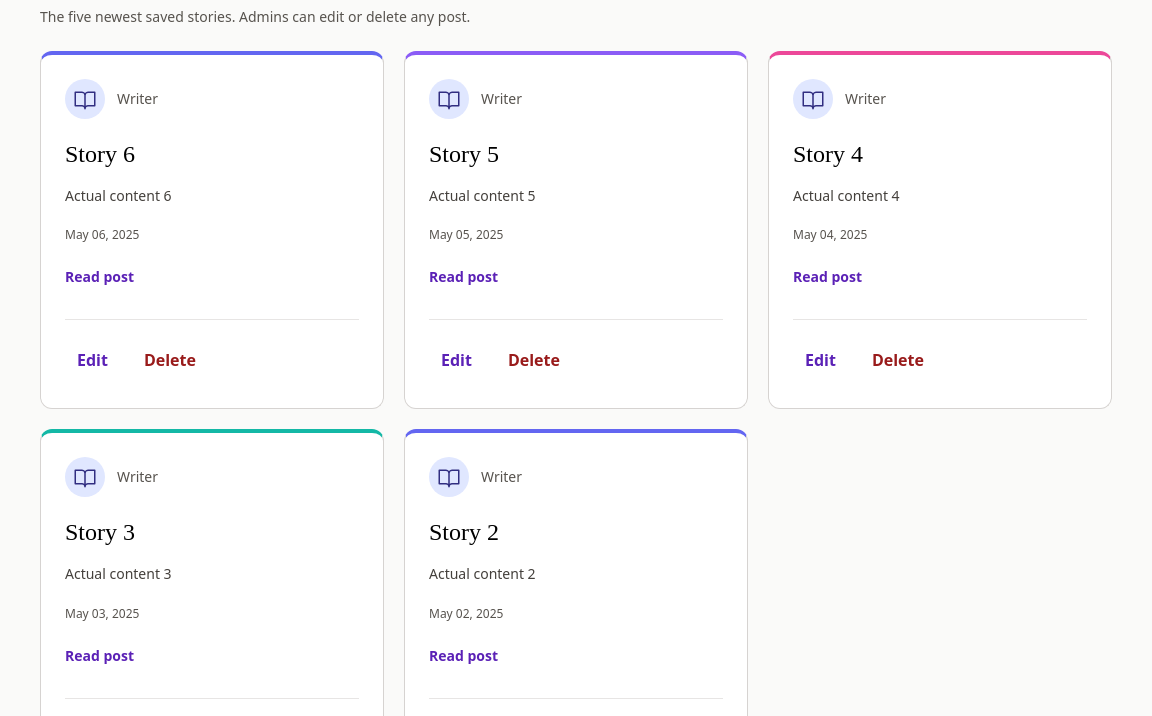
Test case: AdminDashboard › reports failed posts rereads only after a successful delete
This screenshot has width=1152, height=716.
(page scrolled)
Click the button "Delete" below "May 06, 2025".
click(170, 360)  # box [132,336,208,384]
(page scrolled)
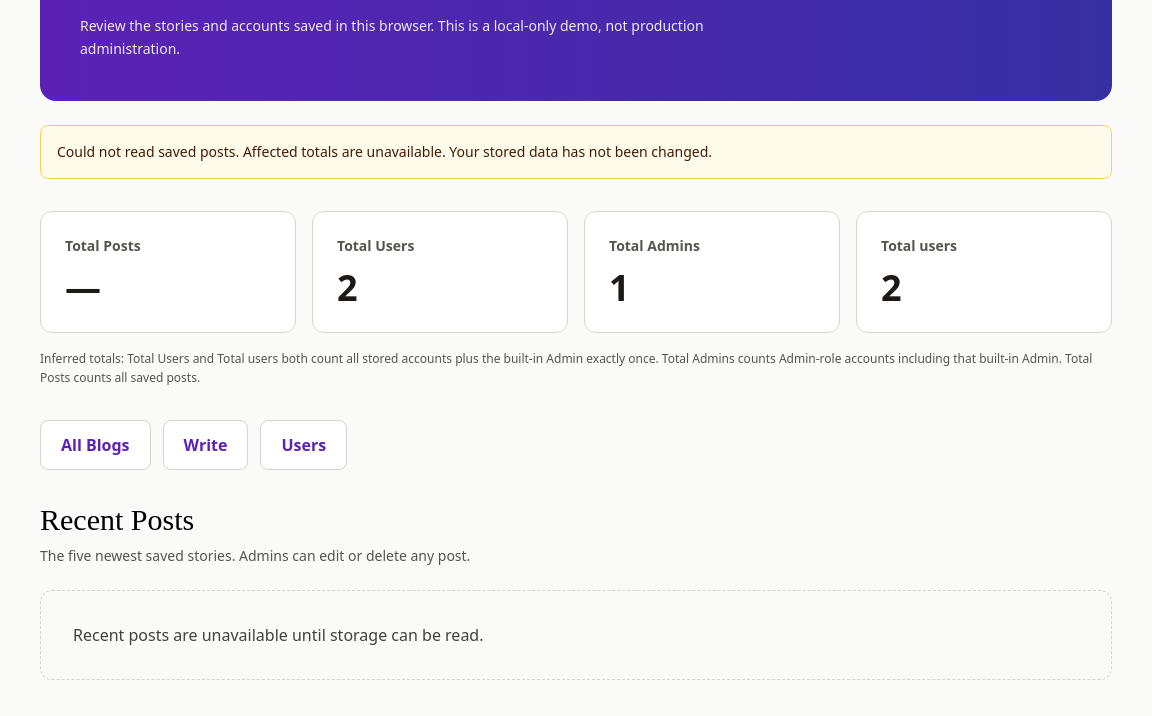
Check: the message shows "Could not read saved posts.", box [40,124,1112,178]
Check: the link "Story 6" is gone
Check: the text "Recent posts are unavailable until storage can be read." is shown, box [40,590,1112,680]
